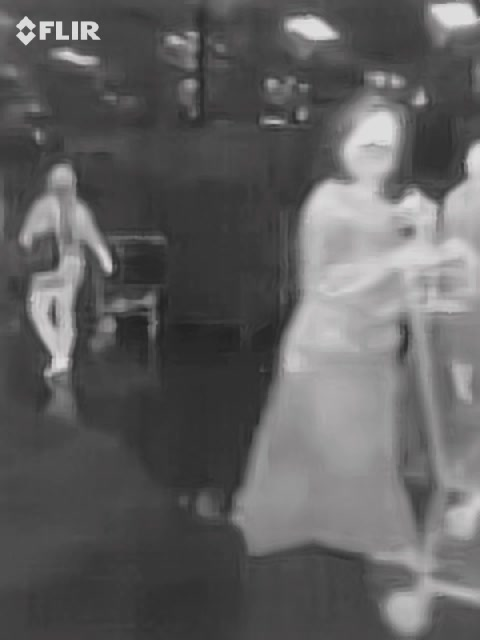head: (333, 89, 405, 188)
